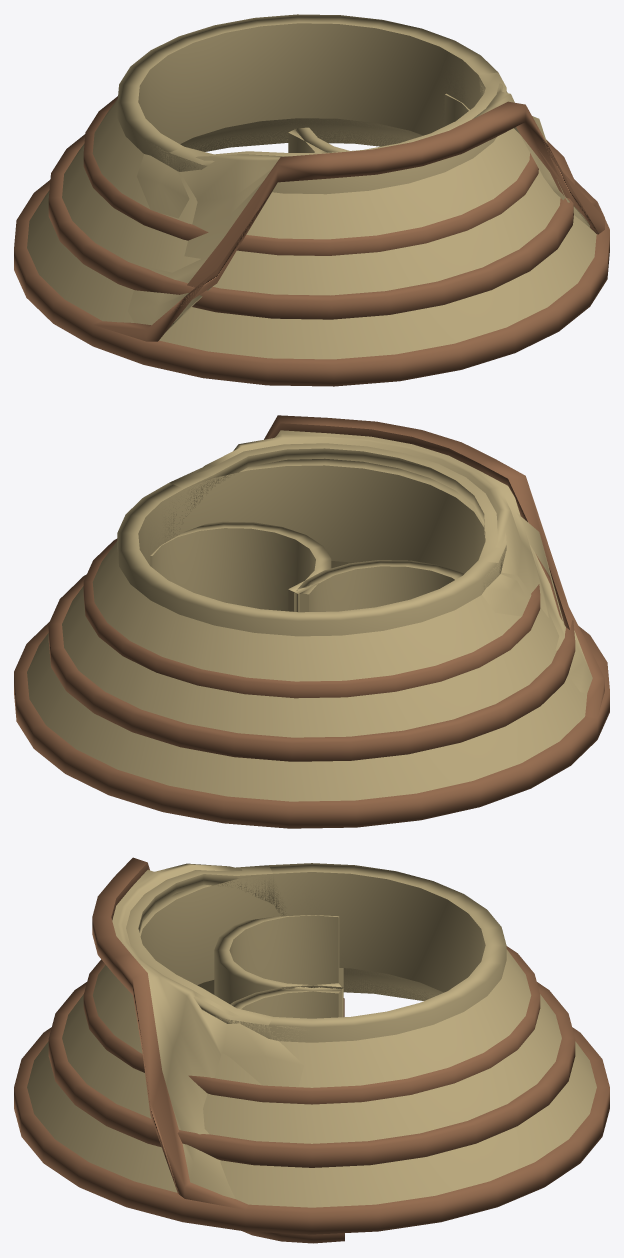
The model's file is camo_skirt.glb.
3 views of the same model, one above another, from view 1: azimuth 30°, elevation 25°; view 2: azimuth 150°, elevation 25°; view 3: azimuth 270°, elevation 25° (orthographic).
Parts seen in each view (by area): view 1: camo_skirt_Body, camo_skirt_Body_sit, camo_skirt_LegR_sit; view 2: camo_skirt_Body, camo_skirt_Body_sit, camo_skirt_LegR_sit, camo_skirt_LegL_sit; view 3: camo_skirt_Body, camo_skirt_Body_sit, camo_skirt_LegL_sit, camo_skirt_LegR_sit.
Part boxes in pixels (bbox=[...]): camo_skirt_Body: bbox=[14, 14, 609, 386]; camo_skirt_Body_sit: bbox=[93, 48, 604, 341]; camo_skirt_LegR_sit: bbox=[294, 93, 469, 152]; camo_skirt_Body: bbox=[14, 458, 609, 828]; camo_skirt_Body_sit: bbox=[145, 415, 604, 718]; camo_skirt_LegR_sit: bbox=[150, 521, 331, 612]; camo_skirt_LegL_sit: bbox=[294, 560, 463, 612]; camo_skirt_Body: bbox=[14, 863, 609, 1234]; camo_skirt_Body_sit: bbox=[92, 857, 443, 1209]; camo_skirt_LegL_sit: bbox=[214, 915, 344, 1017]; camo_skirt_LegR_sit: bbox=[230, 985, 344, 1243].
Size of the model in its own units: 0.628 by 0.2847 by 0.628.
